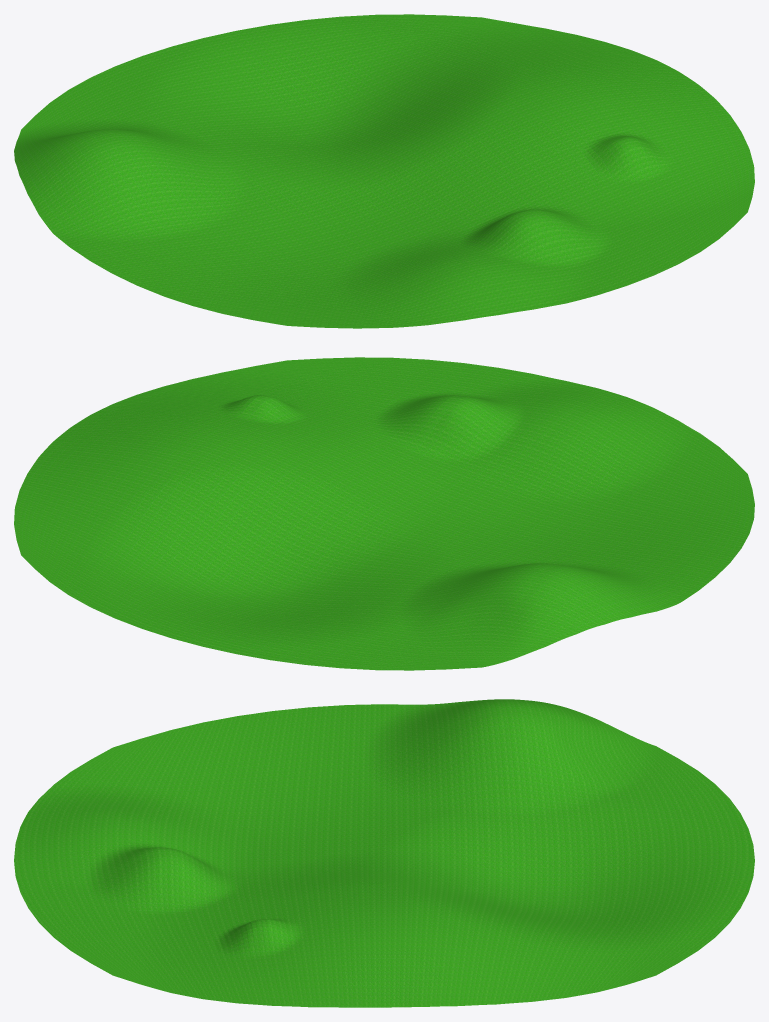
The model's file is ground.obj.
The picture shows the model from 3 angles, top to bottom: view 1: azimuth 30°, elevation 25°; view 2: azimuth 150°, elevation 25°; view 3: azimuth 270°, elevation 25°; orthographic projection. The views are drawn at different scales.
Visible parts, largest first — view 1: Plane_Plane.002; view 2: Plane_Plane.002; view 3: Plane_Plane.002.
Part boxes in pixels (box(x1,y1,x2,y2)): Plane_Plane.002: box(14, 14, 754, 328); Plane_Plane.002: box(14, 357, 754, 670); Plane_Plane.002: box(14, 699, 754, 1007).
Bounding box in the file's own units: 183 × 17.41 × 183.
1 material, 1 textured.
